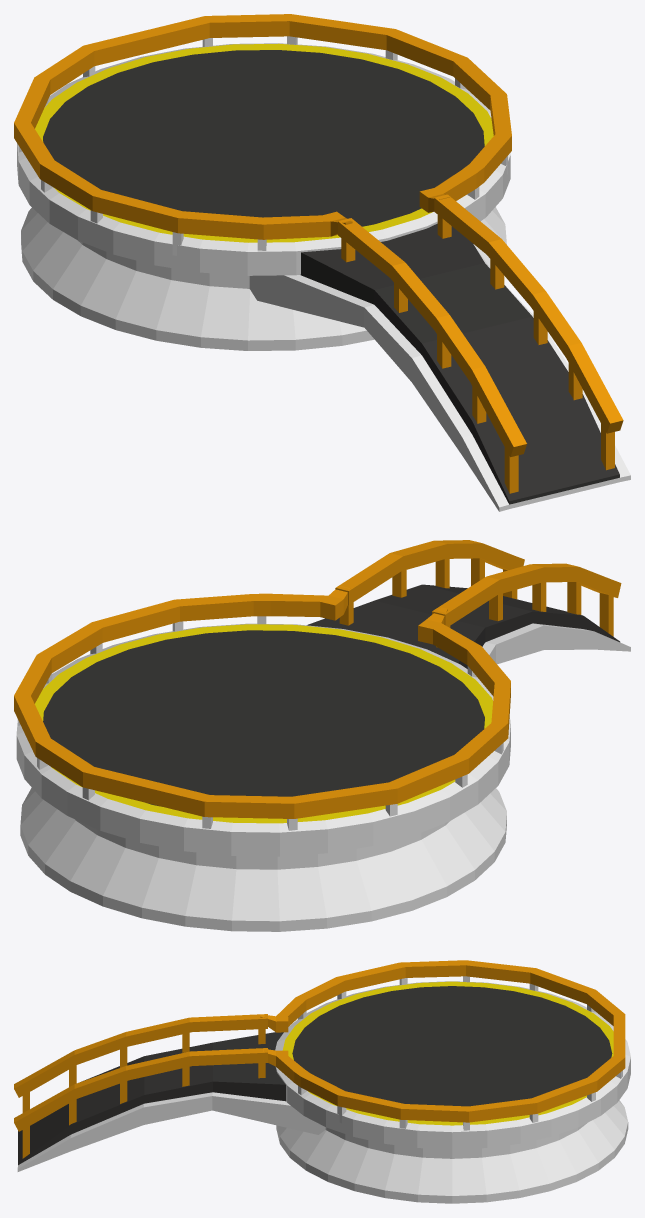
The model's file is Helecopter.fbx.
3 views of the same model, one above another, from view 1: azimuth 30°, elevation 25°; view 2: azimuth 150°, elevation 25°; view 3: azimuth 270°, elevation 25° (orthographic). The views are drawn at different scales.
Parts seen in each view (by area): view 1: Cube; view 2: Cube; view 3: Cube.
Boxes of the visible parts, x1,y1,x2,y2 form: Cube: (14, 14, 630, 511); Cube: (14, 540, 630, 931); Cube: (14, 960, 630, 1203).
Size of the model in its own units: 777 by 280 by 1338.
